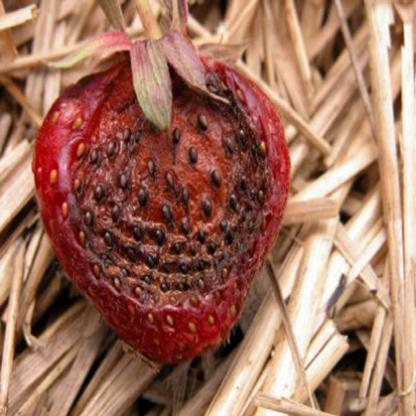Strawberry_Anthracnose_Fruit_Rot: (56, 58, 280, 308)
